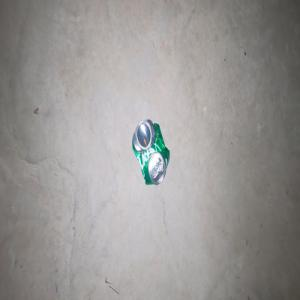SodaCan: (132, 118, 169, 185)
